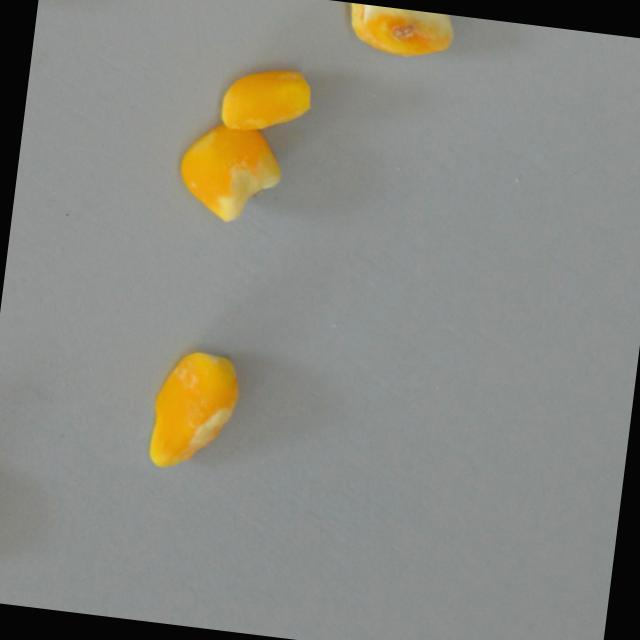dañado: (344, 1, 458, 63)
estandar: (217, 63, 315, 139)
no_canjicado: (173, 118, 285, 227)
pelicula: (144, 344, 244, 476)
